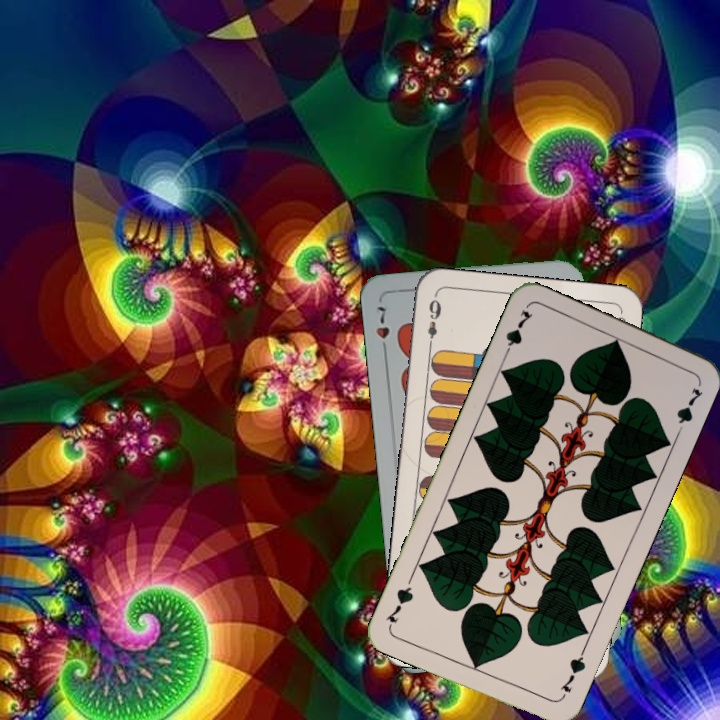E9: (423, 295, 444, 351)
G7: (499, 305, 536, 361), (556, 646, 588, 702)
H7: (372, 301, 392, 358)
